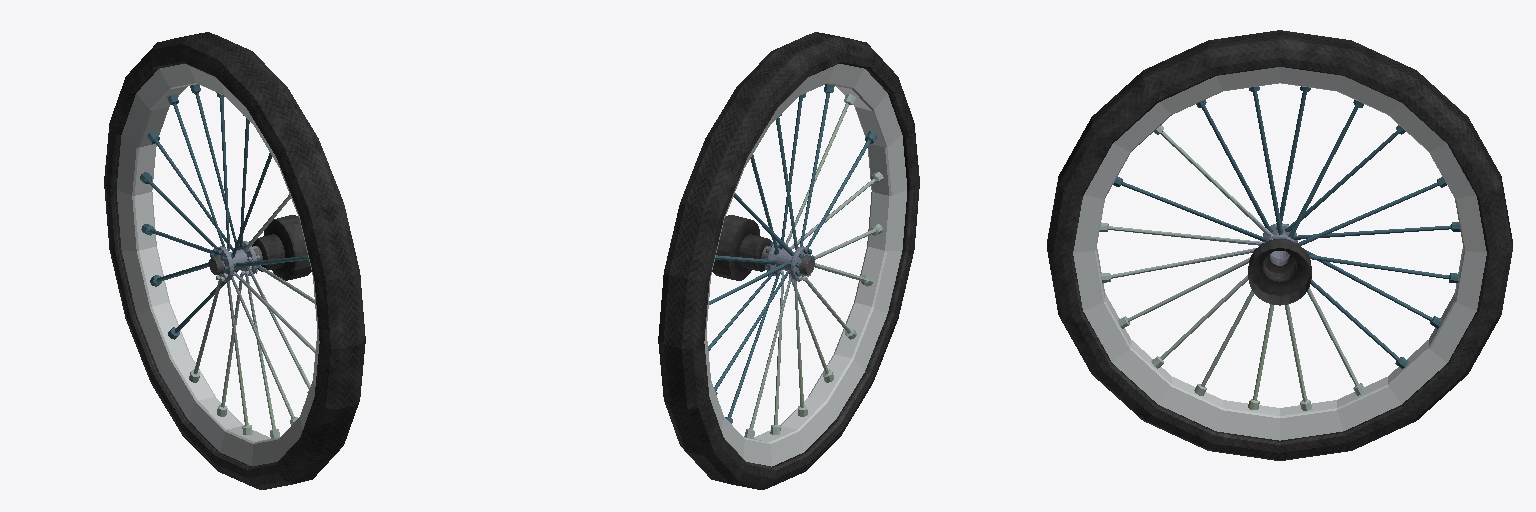
The picture shows the model from 3 angles: view 1: azimuth 30°, elevation 25°; view 2: azimuth 150°, elevation 25°; view 3: azimuth 270°, elevation 25°; orthographic projection.
Visible parts, largest first — view 1: RuedaDer; view 2: RuedaDer; view 3: RuedaDer.
Part boxes in pixels (x1,y1,x2,y2): RuedaDer: (104,32,365,489); RuedaDer: (658,32,919,489); RuedaDer: (1047,30,1512,460).
Size of the model in its own units: 5.05 by 23.88 by 23.88.
1 materials, 1 textured.